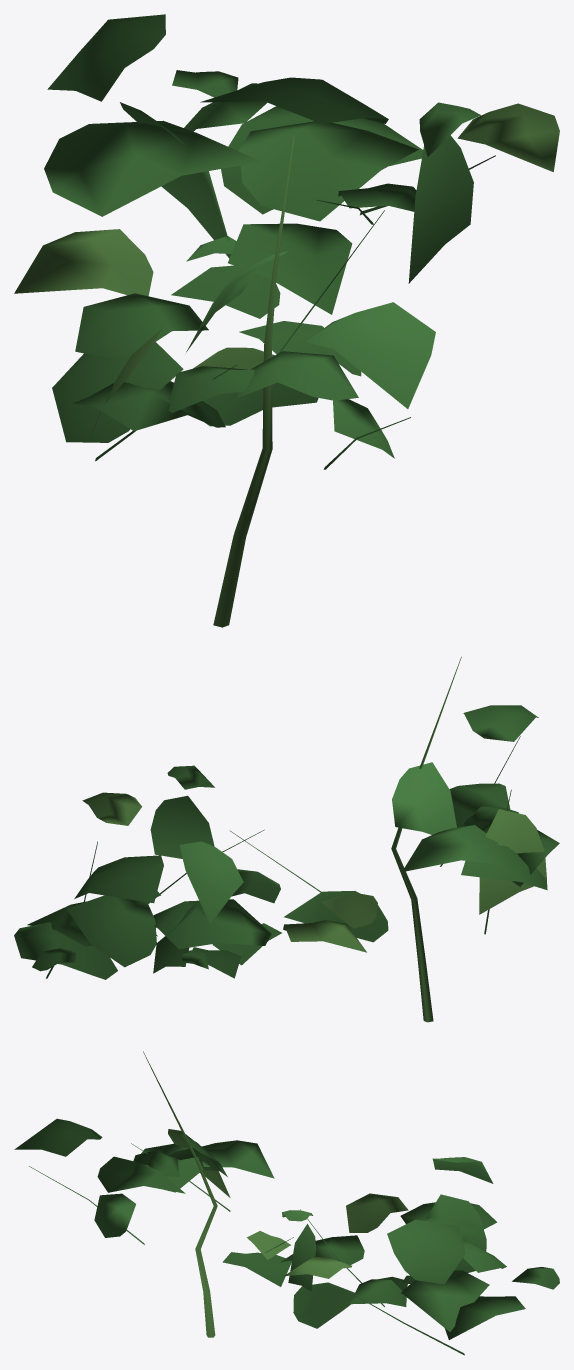
The model's file is forracao_1_longe.glb.
The picture shows the model from 3 angles, top to bottom: view 1: azimuth 30°, elevation 25°; view 2: azimuth 150°, elevation 25°; view 3: azimuth 270°, elevation 25°; orthographic projection. The views are drawn at different scales.
Parts seen in each view (by area): view 1: forracao_1_longe; view 2: forracao_1_longe; view 3: forracao_1_longe.
Boxes of the visible parts, x1,y1,x2,y2 form: forracao_1_longe: [14, 14, 559, 627]; forracao_1_longe: [14, 656, 559, 1022]; forracao_1_longe: [14, 1051, 559, 1355].
Bounding box in the file's own units: 0.5026 × 0.415 × 0.7136.
